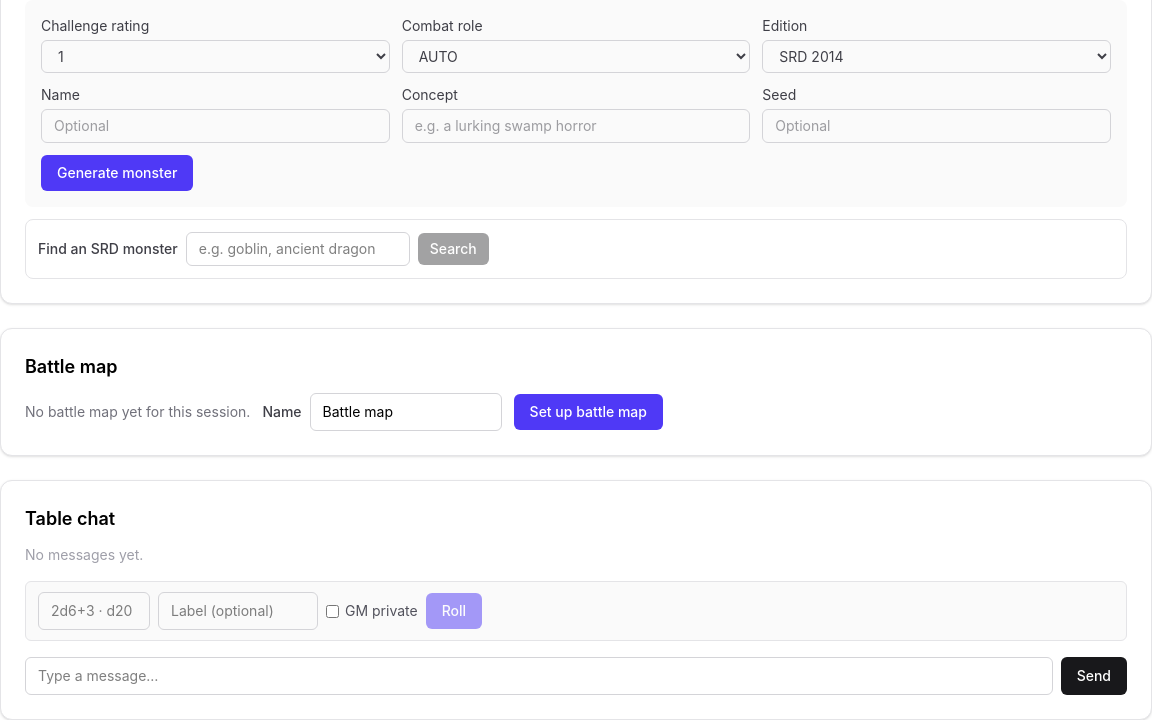
Test: SessionPage › seeds the GM-visible result when the GM rolls privately
(page scrolled)
Step 1. Click the checkbox labelled "GM private" → {"x": 332, "y": 611}, box [326, 604, 339, 618]
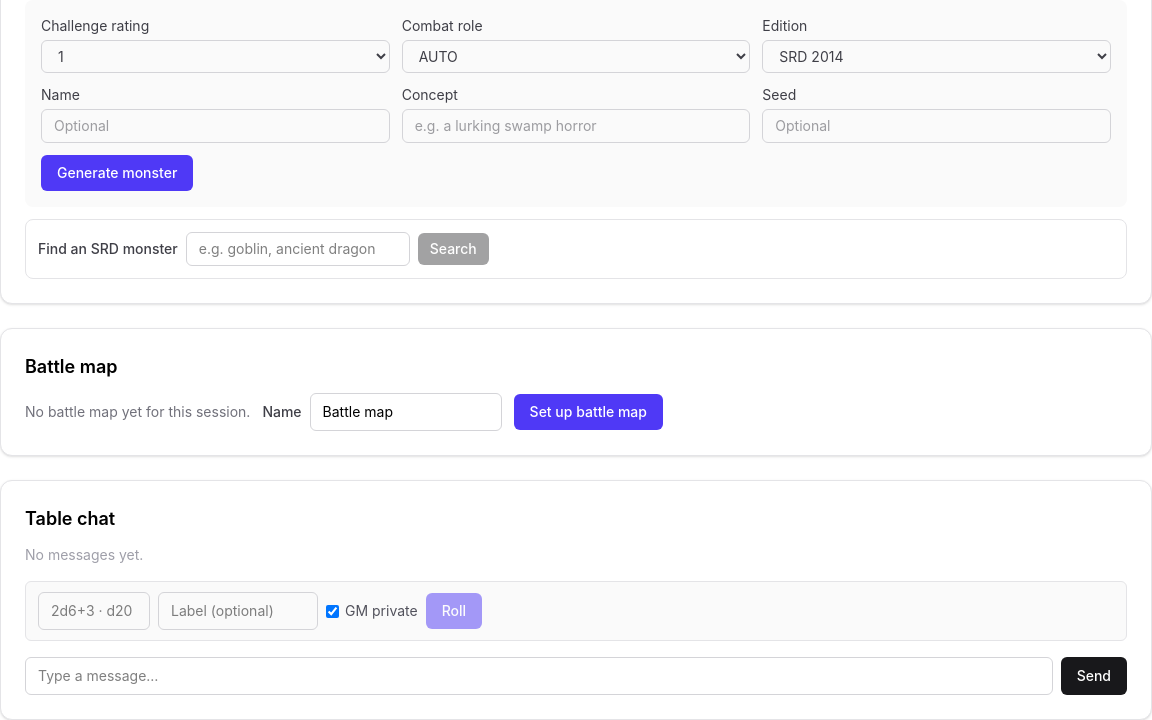
Step 2. Type "d100" into the field named "Dice expression" → {"x": 94, "y": 611}, box [38, 592, 150, 630]
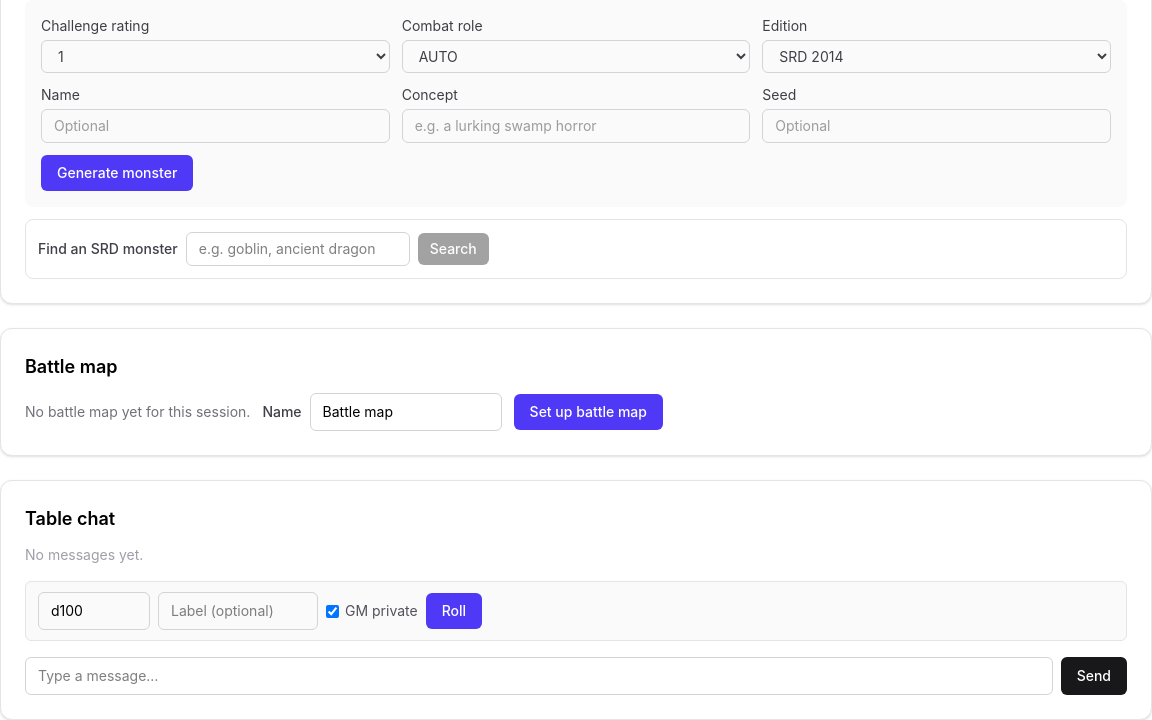
Step 3. Click the button "Roll" → {"x": 454, "y": 611}, box [426, 593, 482, 629]
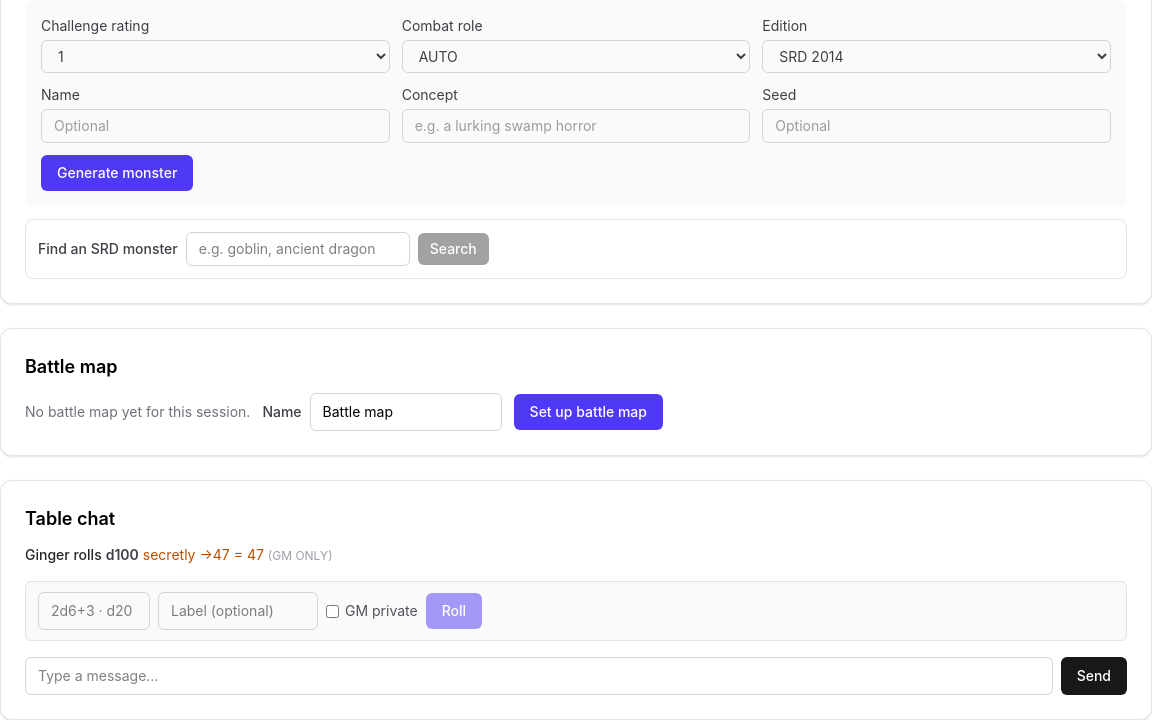
Expected: the text "secretly →47 = 47(GM only)" is shown, [143, 545, 332, 565]
